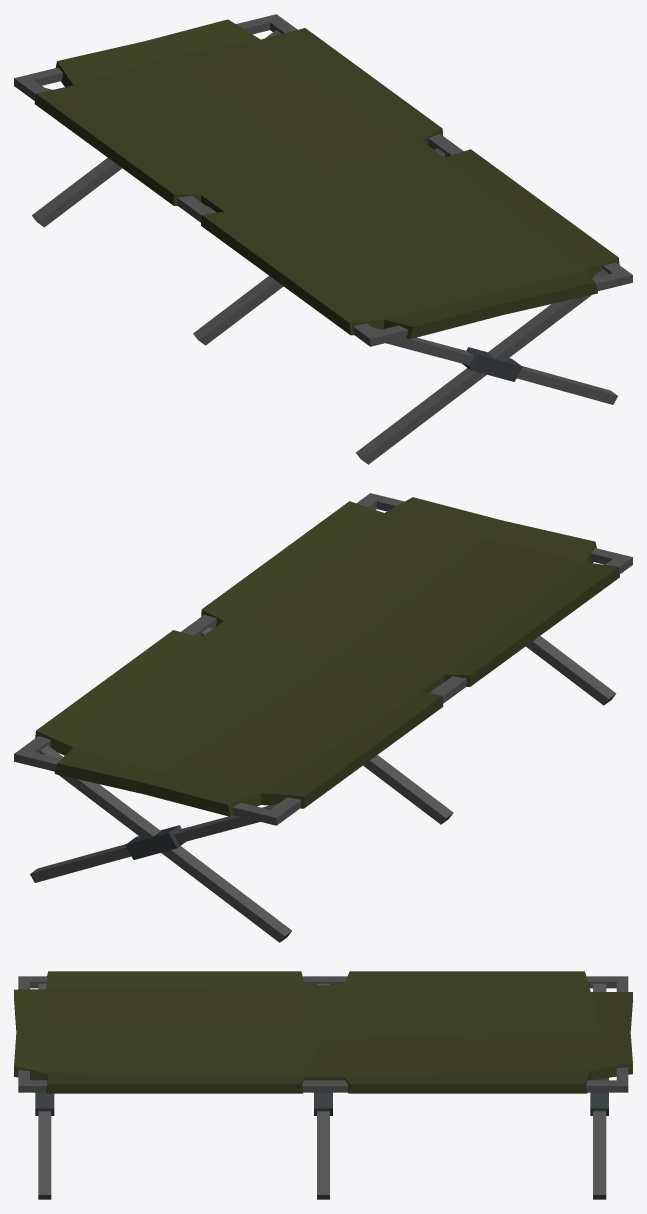
The model's file is SM_Prop_Bed_Stretcher_01.fbx.
3 views of the same model, one above another, from view 1: azimuth 30°, elevation 25°; view 2: azimuth 150°, elevation 25°; view 3: azimuth 270°, elevation 25° (orthographic). The views are drawn at different scales.
Visible parts, largest first — view 1: SM_Prop_Bed_Stretcher_01; view 2: SM_Prop_Bed_Stretcher_01; view 3: SM_Prop_Bed_Stretcher_01.
Boxes of the visible parts, x1,y1,x2,y2 form: SM_Prop_Bed_Stretcher_01: (14,14,632,464); SM_Prop_Bed_Stretcher_01: (14,493,632,942); SM_Prop_Bed_Stretcher_01: (14,971,632,1199).
Bounding box in the file's own units: 104 × 52.08 × 243.
